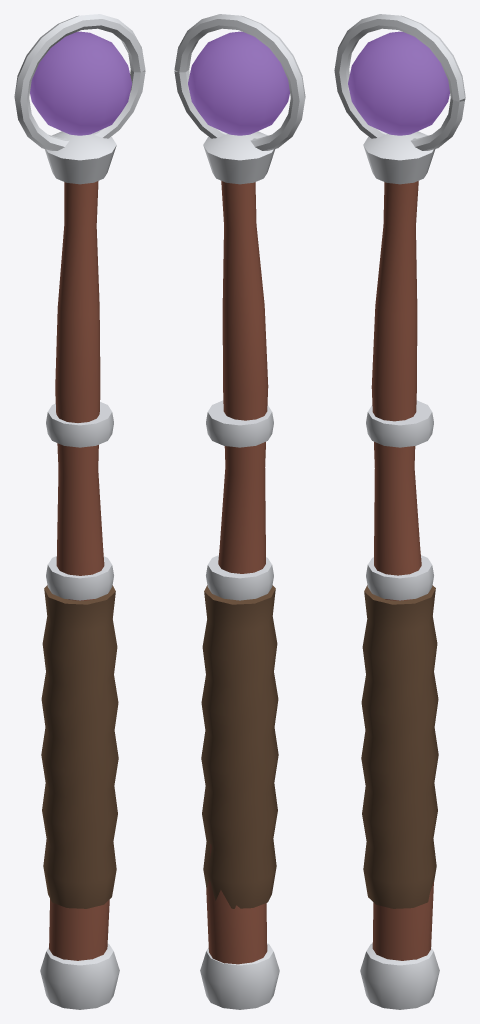
The model's file is depth_prismcoil_wand.glb.
3 views of the same model, side by side, from view 1: azimuth 30°, elevation 25°; view 2: azimuth 150°, elevation 25°; view 3: azimuth 330°, elevation 25° (orthographic).
Parts seen in each view (by area): view 1: depth_prismcoil_wand; view 2: depth_prismcoil_wand; view 3: depth_prismcoil_wand.
Boxes of the visible parts, bbox=[...] form: depth_prismcoil_wand: bbox=[14, 14, 145, 1009]; depth_prismcoil_wand: bbox=[174, 14, 305, 1009]; depth_prismcoil_wand: bbox=[334, 14, 465, 1009].
Size of the model in its own units: 0.049 by 0.3565 by 0.034.
